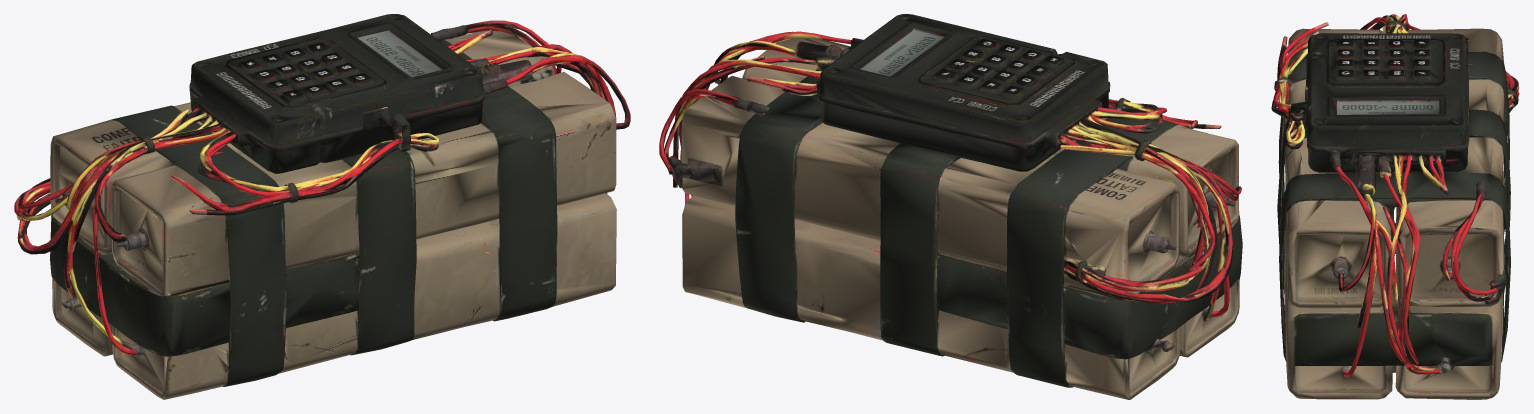
File: bomba_paket.glb
3 renders of one model, left to right at view 1: azimuth 30°, elevation 25°; view 2: azimuth 150°, elevation 25°; view 3: azimuth 270°, elevation 25°, orthographic. The views are drawn at different scales.
Parts seen in each view (by area): view 1: govde; view 2: govde; view 3: govde.
Boxes of the visible parts, x1=… form: govde: x1=14, y1=14, x2=630, y2=399; govde: x1=659, y1=14, x2=1242, y2=399; govde: x1=1271, y1=14, x2=1519, y2=399.
Bounding box in the file's own units: 0.1649 × 0.0707 × 0.0685.
1 material, 1 textured.
